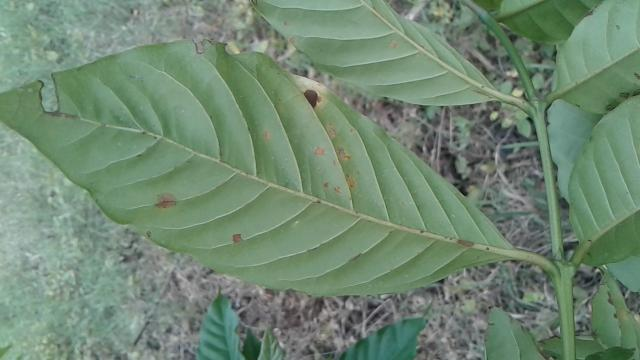rust_level_3: (0, 42, 512, 299)
